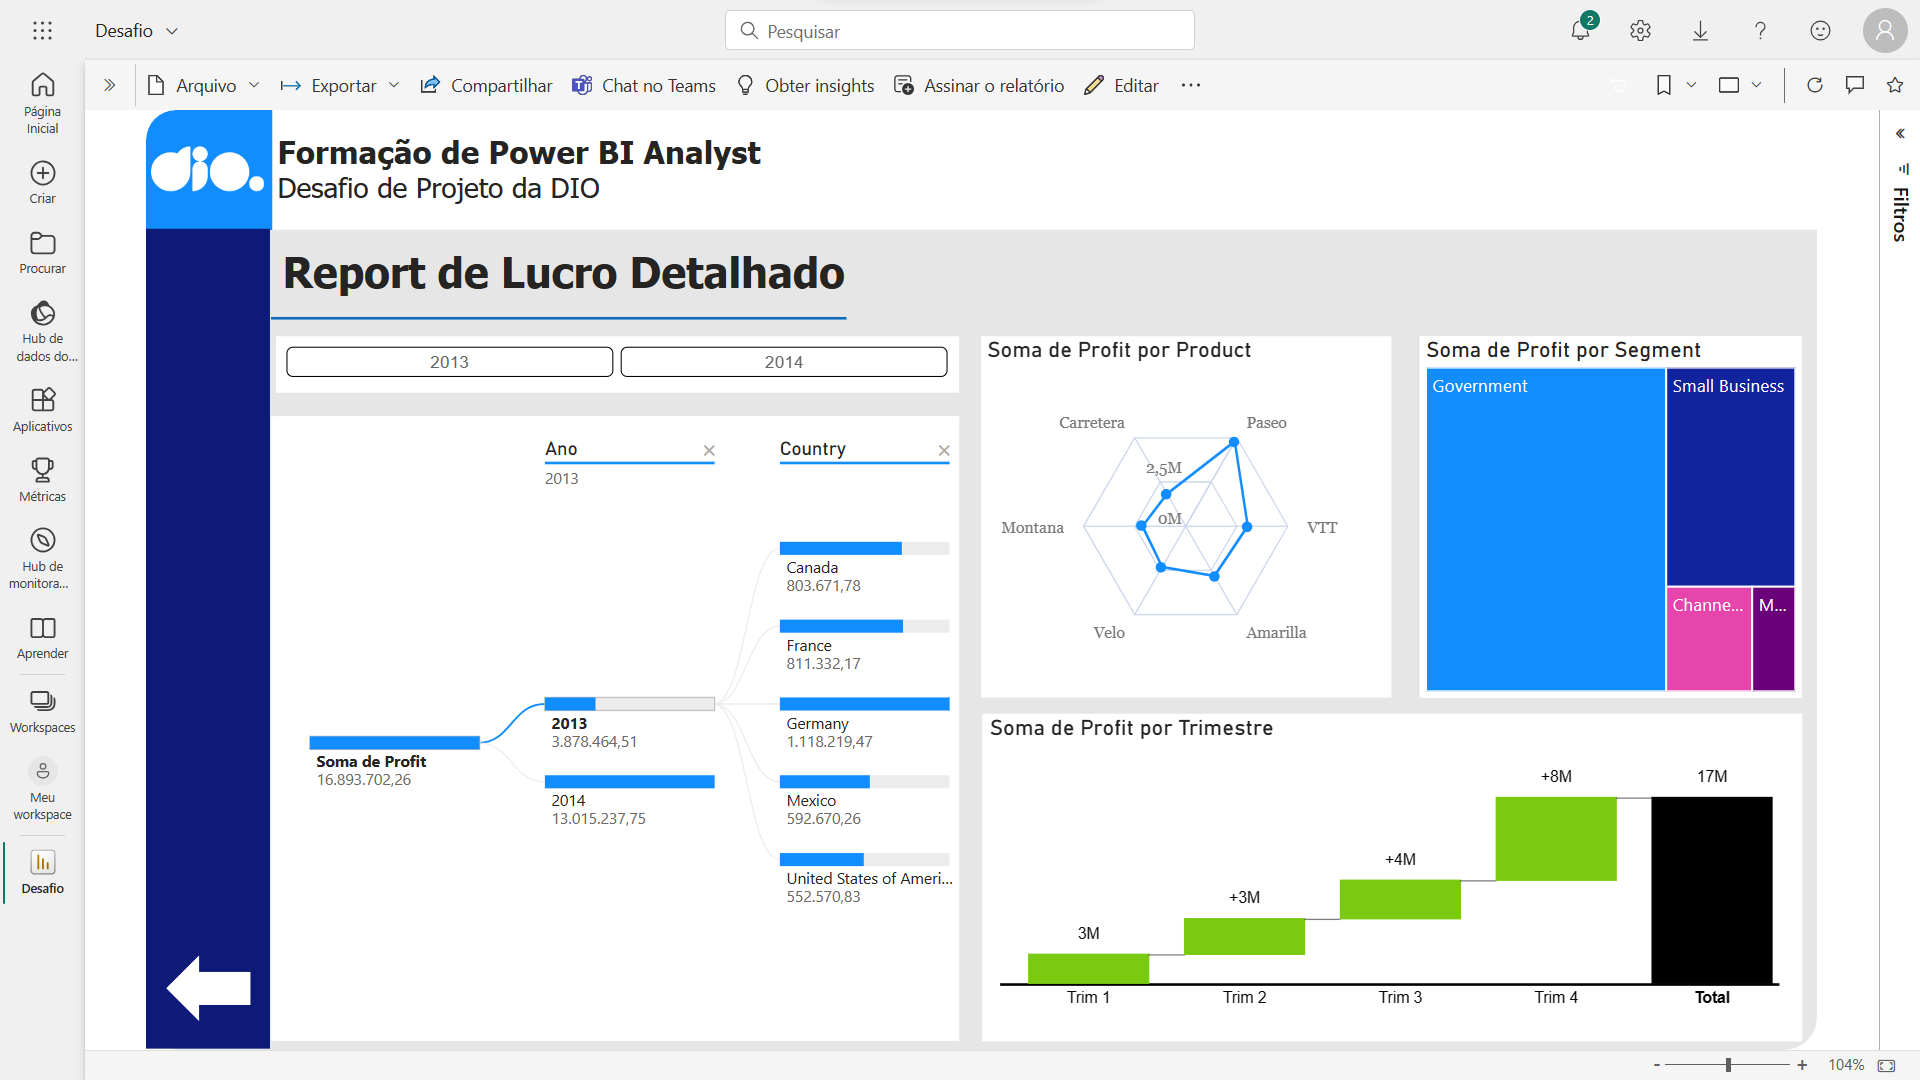

What the dashboard file says about the page in this screenshot:
{"tool":"powerbi","page":{"name":"Página 2","canvas":[1280,720],"ordinal":1},"visuals":[{"type":"shape","box":[0,0,1280,720],"z":0},{"type":"shape","box":[0,0,97.4,92.1],"z":1000},{"type":"shape","box":[-0.6,91.1,95.9,628.3],"z":2000},{"type":"image","box":[-0.6,-0.6,95.9,91.7],"z":3000},{"type":"shape","box":[15,647,65,51],"z":4000},{"type":"shape","box":[96.6,0,1183.3,91.7],"z":5000},{"type":"textbox","box":[95.9,12.5,397.6,68.1],"z":6000},{"type":"shape","box":[96.1,139.5,440.8,39.5],"z":7000},{"type":"textbox","box":[100,100,451.3,50],"z":8000},{"type":"shape","box":[100,234.3,522.9,478.6],"z":9000},{"type":"shape","box":[640.8,463.2,627.6,250],"z":10000},{"type":"shape","box":[640,172.9,314.3,277.1],"z":11000},{"type":"shape","box":[975.7,172.9,292.9,277.1],"z":12000},{"type":"treemap","fields":{"Values":["Sum(financials.Profit)"],"Group":["financials.Segment"]},"box":[975.7,172.9,292.9,277.1],"z":13000},{"type":"ChicletSlicer1448559807354","fields":{"Category":["financials.Date.Variation.Hierarquia de datas.Ano"]},"box":[100,172.9,522.9,42.9],"z":14000},{"type":"radarChartE89D21F3E4E64221B79113B5015EA81B","fields":{"measure":["Sum(financials.Profit)"],"category":["financials.Product"]},"box":[640,172.9,314.3,277.1],"z":15000},{"type":"decompositionTreeVisual","fields":{"Analyze":["Sum(financials.Profit)"],"ExplainBy":["financials.Date.Variation.Hierarquia de datas.Ano","financials.Country","financials.Date.Variation.Hierarquia de datas.Trimestre","financials.Date.Variation.Hierarquia de datas.Mês","financials.Date.Variation.Hierarquia de datas.Dia"]},"box":[95.7,234.3,527.1,478.6],"z":16000},{"type":"ultimateWaterfall9712E1351D4E4FA89077ED4D9351DC71","fields":{"Y":["Sum(financials.Profit)"],"Category":["financials.Date.Variation.Hierarquia de datas.Trimestre"]},"box":[641.4,462.9,627.1,250],"z":16001}]}

Visuals, with their boxes on the page's 1280x720 design canvas (x1, y1, x2, y2). These are canvas units, not pixel positions in the 1920x1080 screenshot, which may show the page scaled, cropped or inside an application window:
shape: x1=0 y1=0 x2=1280 y2=720
shape: x1=0 y1=0 x2=97 y2=92
shape: x1=-1 y1=91 x2=95 y2=719
image: x1=-1 y1=-1 x2=95 y2=91
shape: x1=15 y1=647 x2=80 y2=698
shape: x1=97 y1=0 x2=1280 y2=92
textbox: x1=96 y1=12 x2=494 y2=81
shape: x1=96 y1=140 x2=537 y2=179
textbox: x1=100 y1=100 x2=551 y2=150
shape: x1=100 y1=234 x2=623 y2=713
shape: x1=641 y1=463 x2=1268 y2=713
shape: x1=640 y1=173 x2=954 y2=450
shape: x1=976 y1=173 x2=1269 y2=450
treemap - Sum(financials.Profit) x financials.Segment: x1=976 y1=173 x2=1269 y2=450
ChicletSlicer1448559807354 - financials.Date.Variation.Hierarquia de datas.Ano: x1=100 y1=173 x2=623 y2=216
radarChartE89D21F3E4E64221B79113B5015EA81B - Sum(financials.Profit) x financials.Product: x1=640 y1=173 x2=954 y2=450
decompositionTreeVisual - Sum(financials.Profit) x financials.Date.Variation.Hierarquia de datas.Ano: x1=96 y1=234 x2=623 y2=713
ultimateWaterfall9712E1351D4E4FA89077ED4D9351DC71 - Sum(financials.Profit) x financials.Date.Variation.Hierarquia de datas.Trimestre: x1=641 y1=463 x2=1268 y2=713
